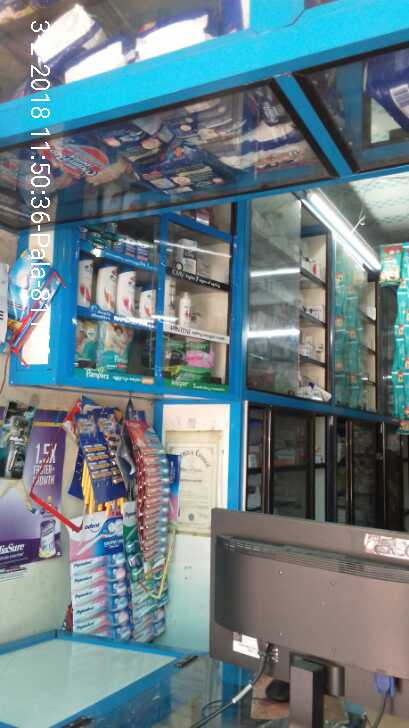vicks: (80, 222, 156, 253)
